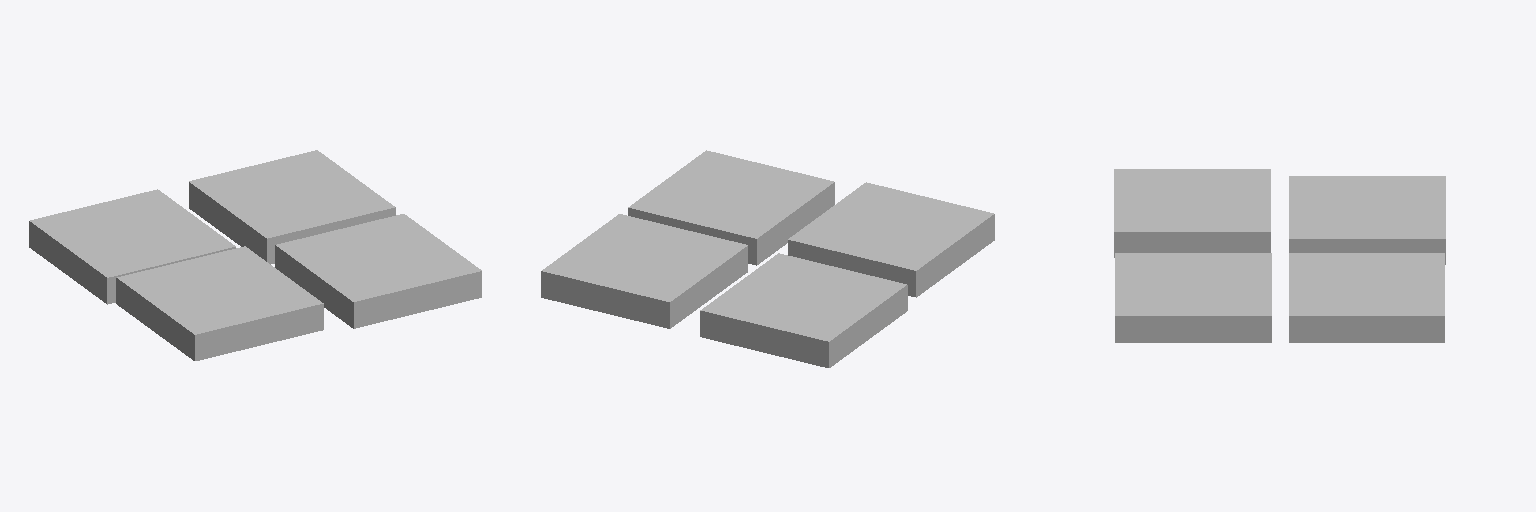
The model's file is window.obj.
The picture shows the model from 3 angles: view 1: azimuth 30°, elevation 25°; view 2: azimuth 150°, elevation 25°; view 3: azimuth 270°, elevation 25°; orthographic projection.
Visible parts, largest first — view 1: Glass_Square.001, Glass_Square.003, Glass_Square, Glass_Square.002; view 2: Glass_Square.002, Glass_Square, Glass_Square.001, Glass_Square.003; view 3: Glass_Square.003, Glass_Square, Glass_Square.001, Glass_Square.002.
Boxes of the visible parts, box(x1,y1,x2,y2) form: Glass_Square.001: box(116, 246, 323, 360); Glass_Square.003: box(275, 214, 481, 328); Glass_Square: box(189, 150, 395, 264); Glass_Square.002: box(29, 189, 235, 304); Glass_Square.002: box(700, 253, 907, 367); Glass_Square: box(541, 214, 747, 328); Glass_Square.001: box(788, 182, 994, 297); Glass_Square.003: box(628, 150, 834, 265); Glass_Square.003: box(1115, 253, 1271, 342); Glass_Square: box(1289, 253, 1444, 342); Glass_Square.001: box(1114, 169, 1270, 257); Glass_Square.002: box(1289, 176, 1445, 264).
Size of the model in its own units: 1.09 by 0.1219 by 1.09.